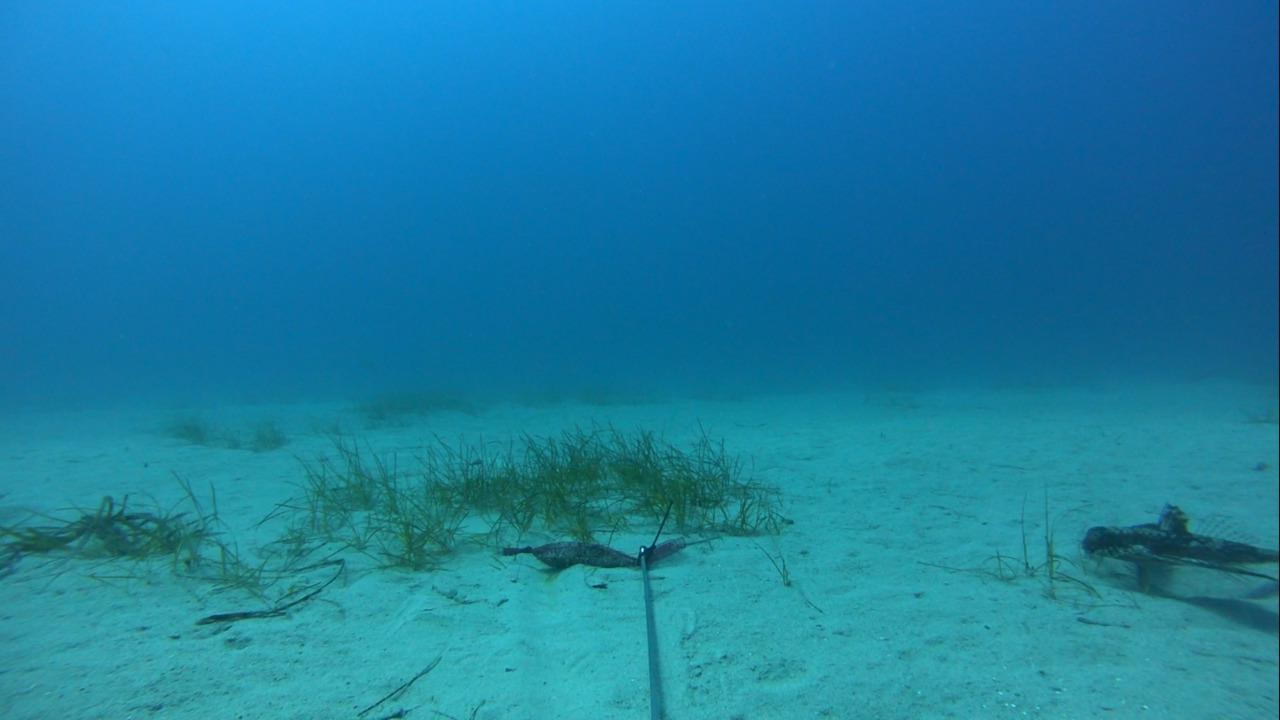dactylopterus: (1074, 502, 1275, 604)
